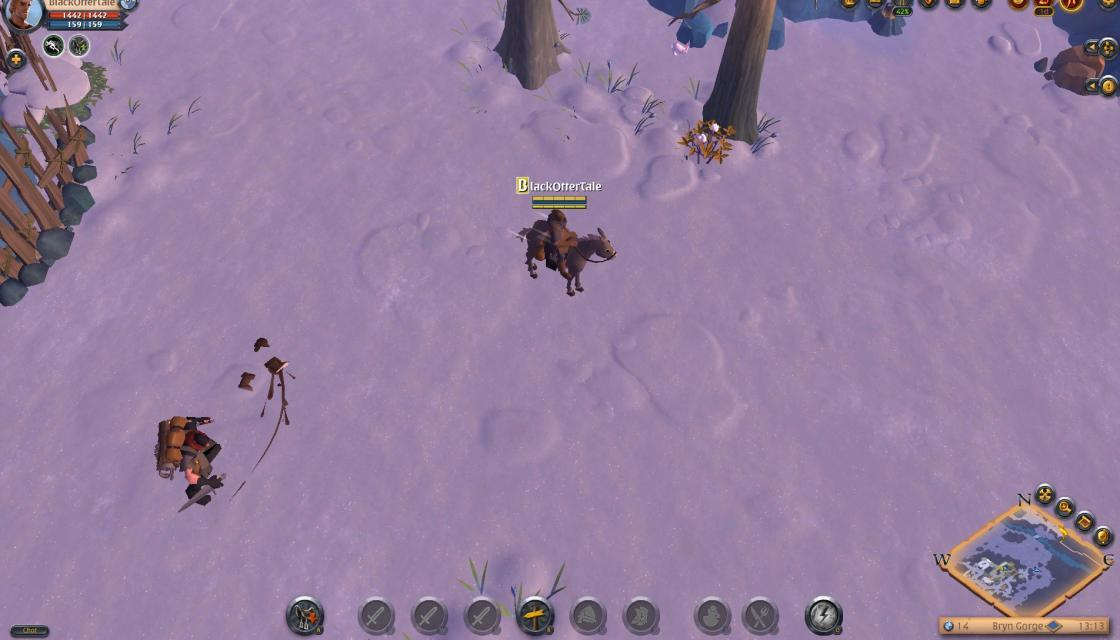copperore: (868, 1, 910, 38)
limestone: (1041, 34, 1107, 98)
